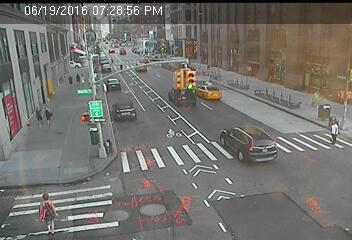neg: (203, 147, 228, 181), (181, 129, 205, 162), (242, 58, 266, 90), (162, 80, 184, 110), (257, 144, 276, 168), (195, 80, 211, 100), (294, 124, 308, 142), (233, 111, 246, 129), (119, 102, 130, 117)
pos: (29, 189, 64, 235), (326, 120, 344, 144), (26, 105, 43, 127), (42, 102, 58, 124), (51, 71, 65, 90), (76, 71, 90, 90), (64, 73, 73, 84)
